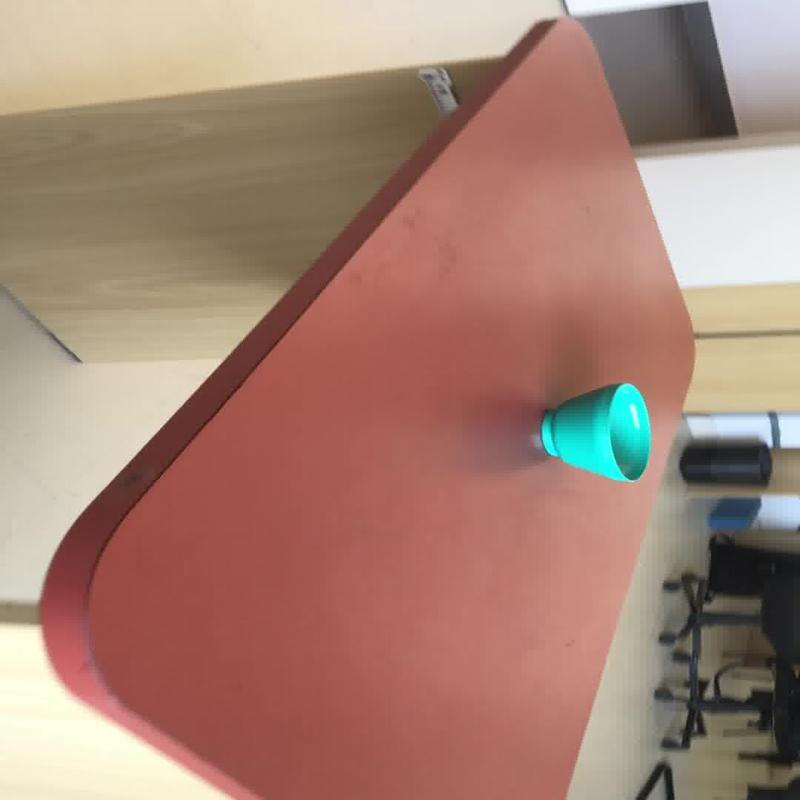bowl: (36, 5, 698, 796), (537, 381, 651, 482)
